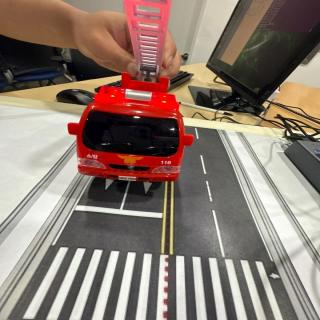Fire_truck: (68, 74, 194, 183)
